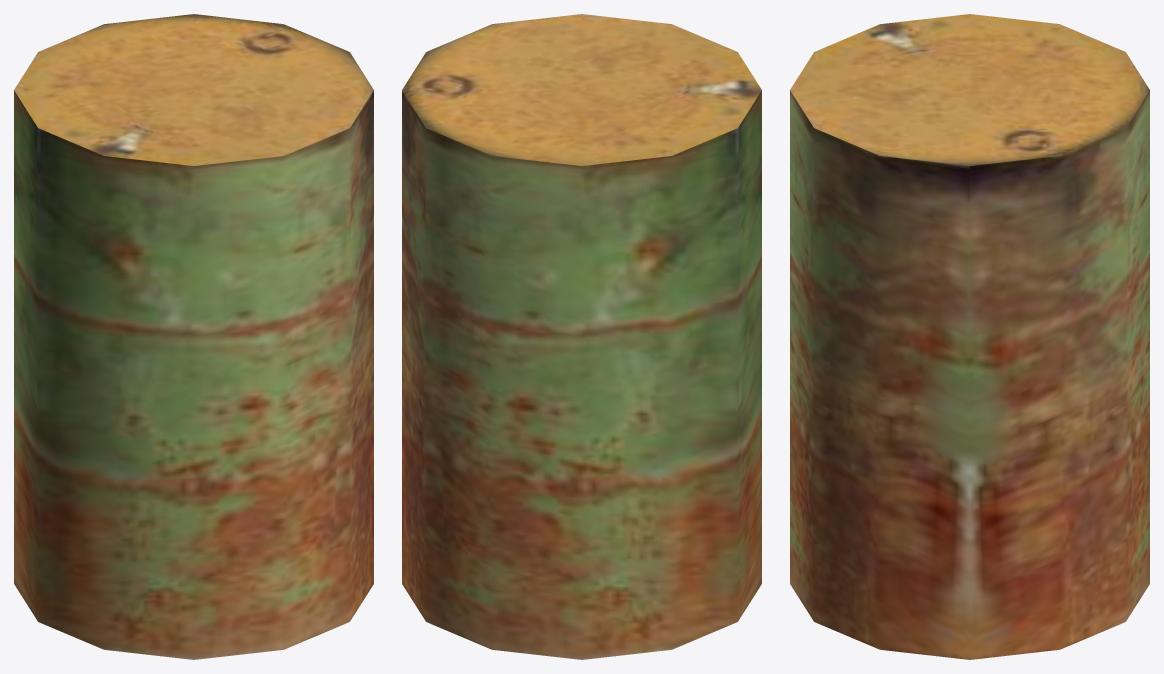
Rendered from oil_barrel.FBX.
3 renders of one model, left to right at view 1: azimuth 30°, elevation 25°; view 2: azimuth 150°, elevation 25°; view 3: azimuth 270°, elevation 25°, orthographic.
Parts seen in each view (by area): view 1: oil_barrel; view 2: oil_barrel; view 3: oil_barrel.
Boxes of the visible parts, x1,y1,x2,y2 form: oil_barrel: (14, 14, 373, 659); oil_barrel: (402, 14, 761, 659); oil_barrel: (790, 14, 1149, 659).
Bounding box in the file's own units: 34.6 × 52.37 × 34.6.
